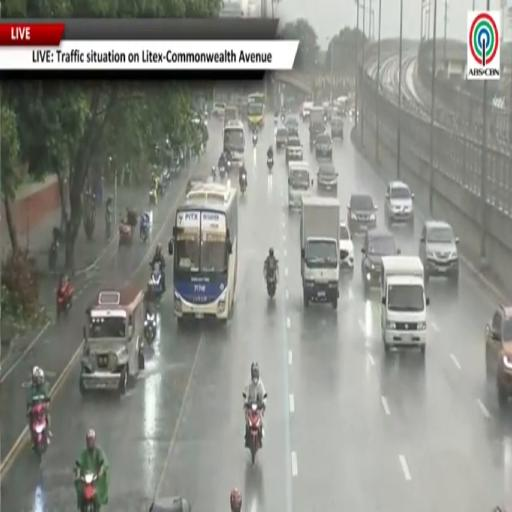bus: (169, 181, 238, 323), (223, 120, 245, 170), (247, 93, 265, 129)
car: (419, 220, 459, 285), (486, 306, 511, 407), (361, 230, 400, 293), (385, 181, 414, 228), (348, 195, 377, 234), (339, 222, 353, 273), (317, 163, 338, 196), (149, 496, 191, 511), (286, 136, 303, 164), (315, 134, 332, 159), (275, 126, 288, 150), (331, 117, 343, 140), (224, 105, 239, 123), (186, 179, 204, 194), (286, 117, 298, 135), (212, 103, 226, 118)
jeepney: (80, 284, 144, 394)
motorcycle: (243, 393, 263, 465), (30, 403, 47, 460), (81, 472, 98, 511), (57, 283, 73, 318), (149, 268, 163, 302), (266, 262, 278, 298), (144, 312, 156, 343), (119, 222, 133, 246), (48, 240, 58, 271), (140, 221, 149, 244), (106, 208, 112, 241), (240, 175, 247, 195), (149, 188, 157, 205), (219, 166, 226, 179), (267, 157, 273, 172), (252, 133, 257, 146), (212, 166, 215, 179), (281, 114, 285, 123)
truck: (381, 255, 429, 354), (300, 197, 340, 309), (309, 107, 325, 148)
